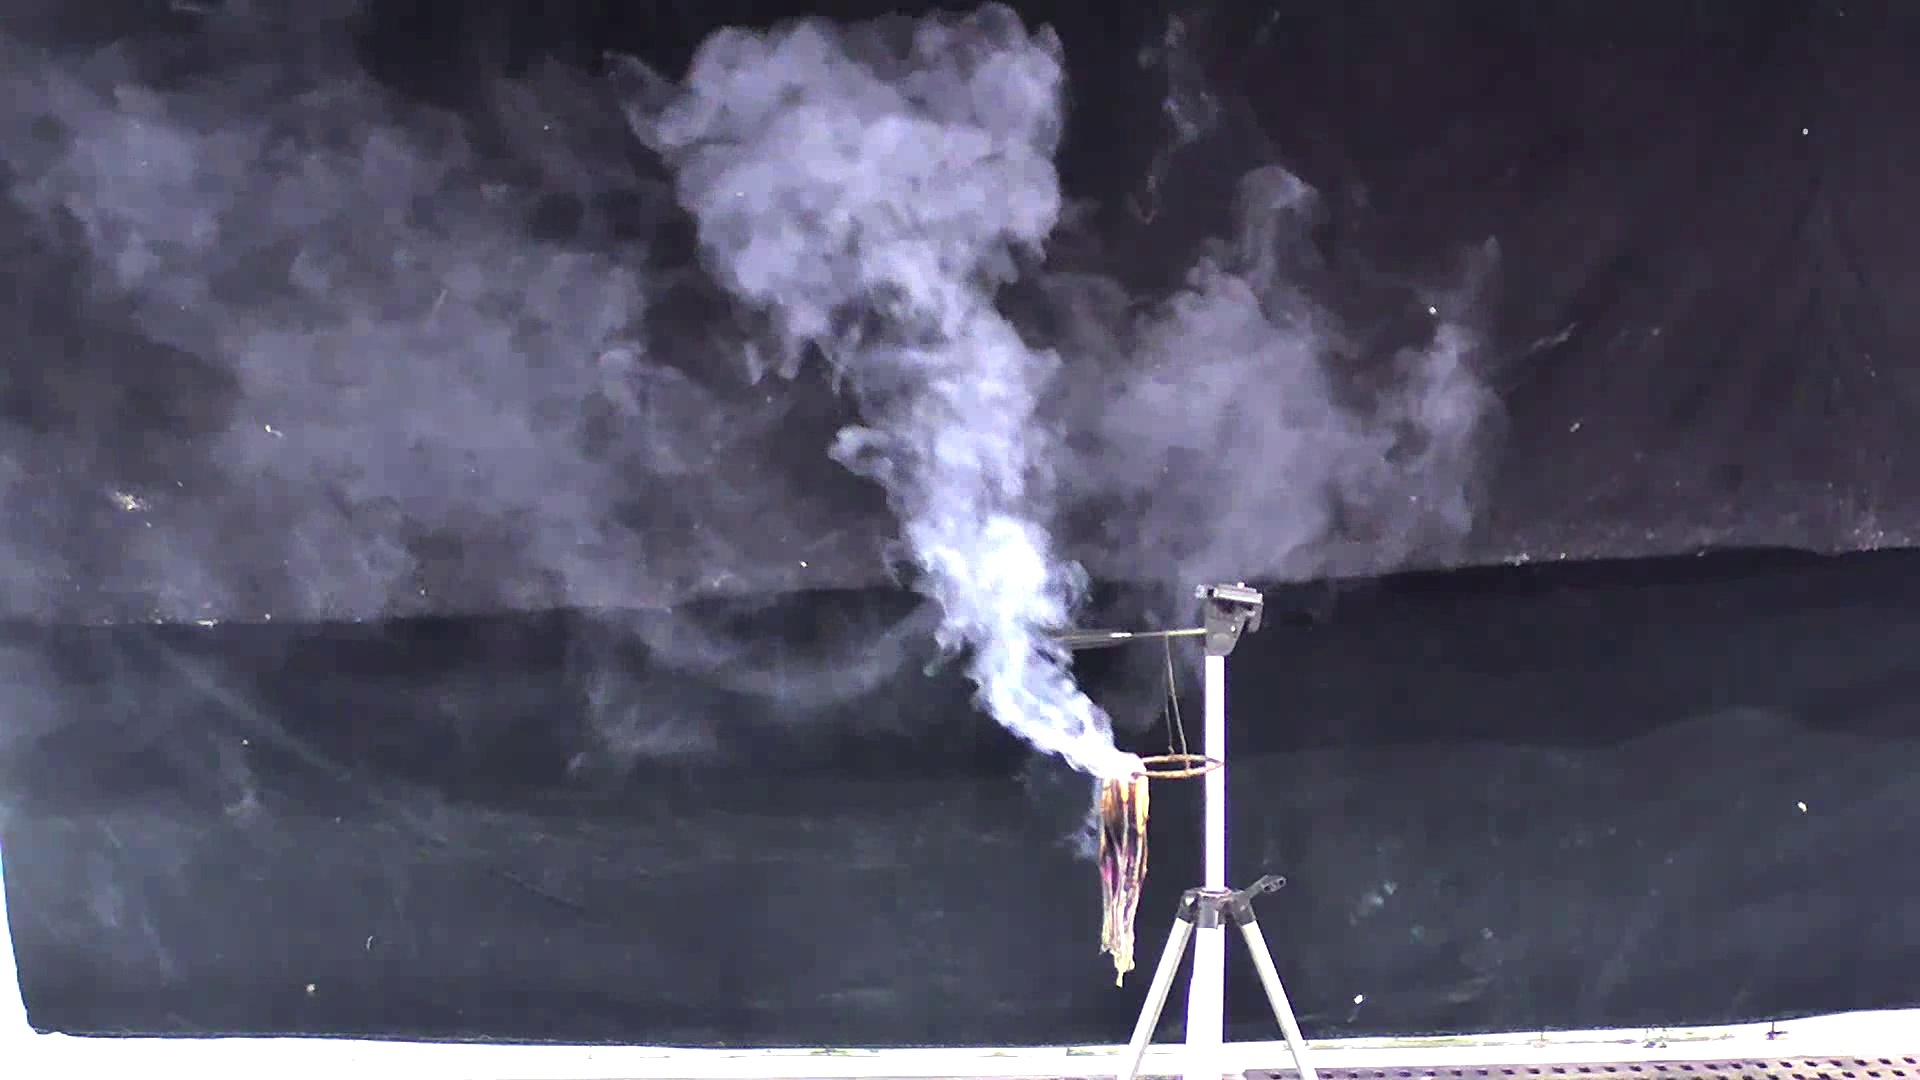smoke: (549, 16, 1519, 786)
